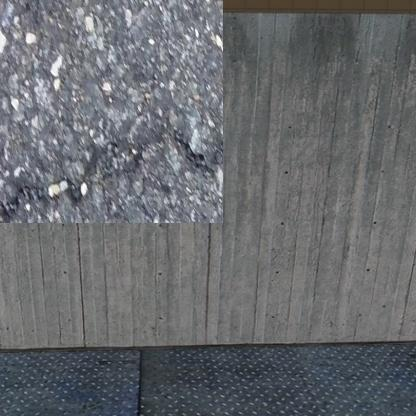Cracks: (0, 116, 206, 206)
